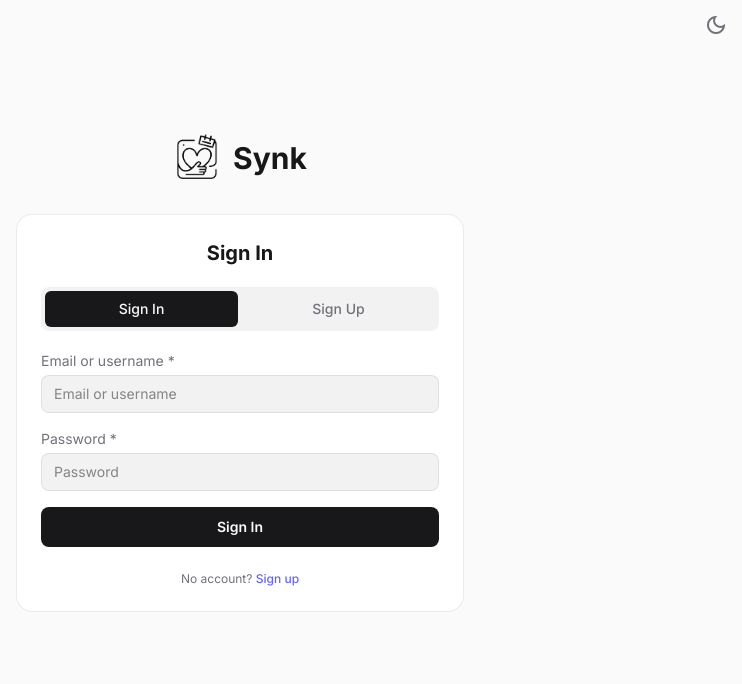
Test: AuthView › displays user-friendly error message on login failure
In the field with placeholder "Email or username": (240,394) top-left (41, 375), bottom-right (439, 413), type "test@example.com"
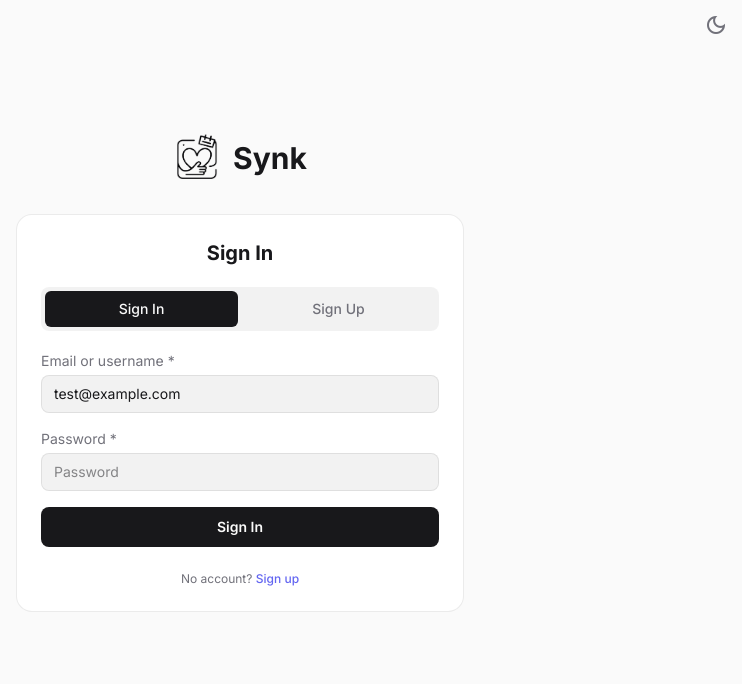
In the password field with placeholder "Password": (240,472) top-left (41, 453), bottom-right (439, 491), type "wrongpass"
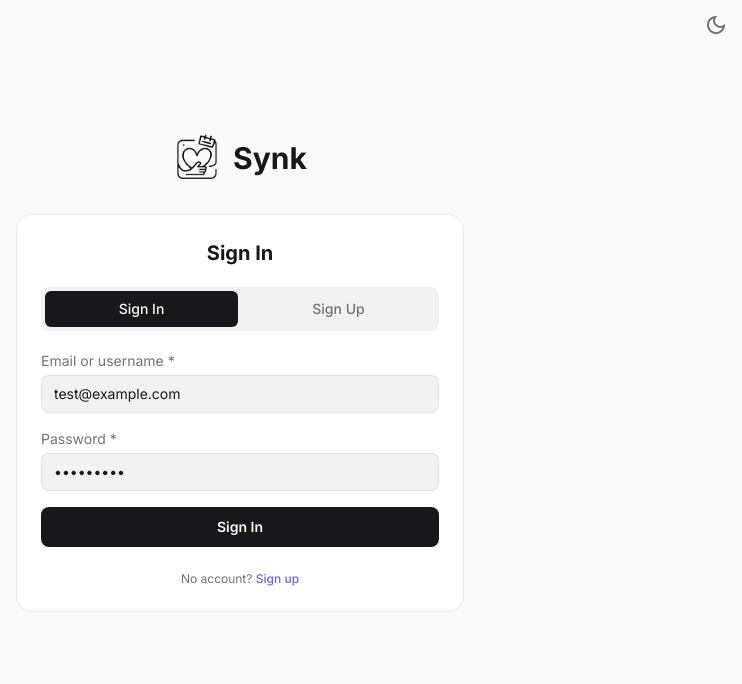
Submit the form with placeholder "Email or username", box top-left (41, 351), bottom-right (439, 547)
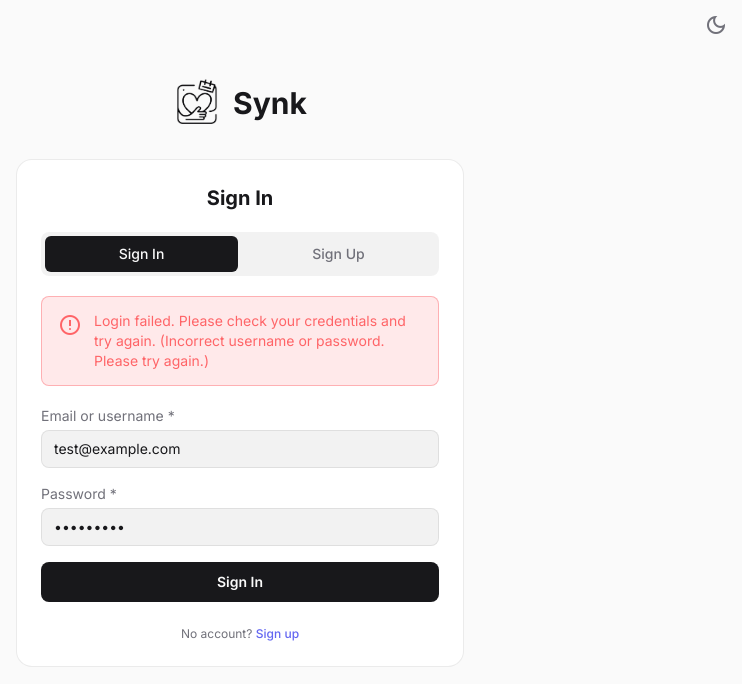
Expected: the text "Incorrect username or password" is shown, top-left (94, 312), bottom-right (406, 369)
